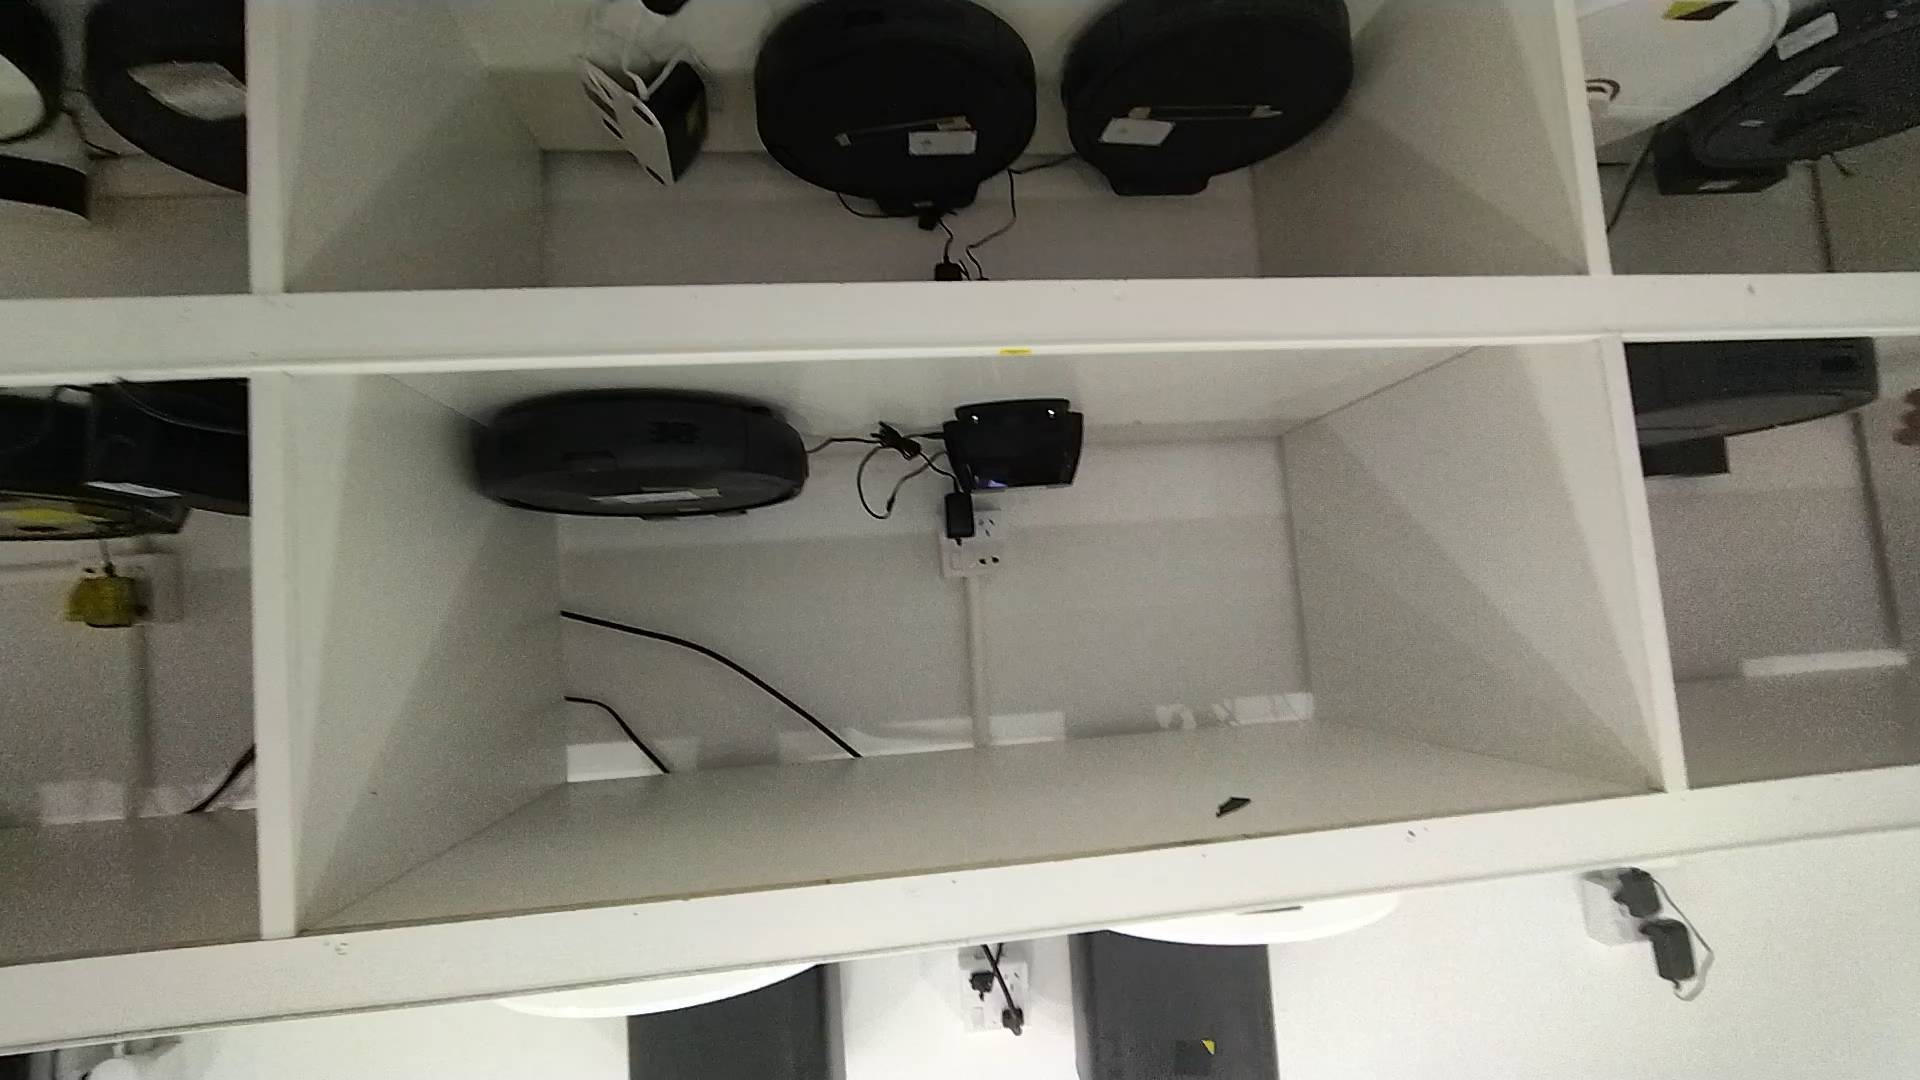recharge seat: (564, 42, 729, 189), (943, 400, 1091, 496)
